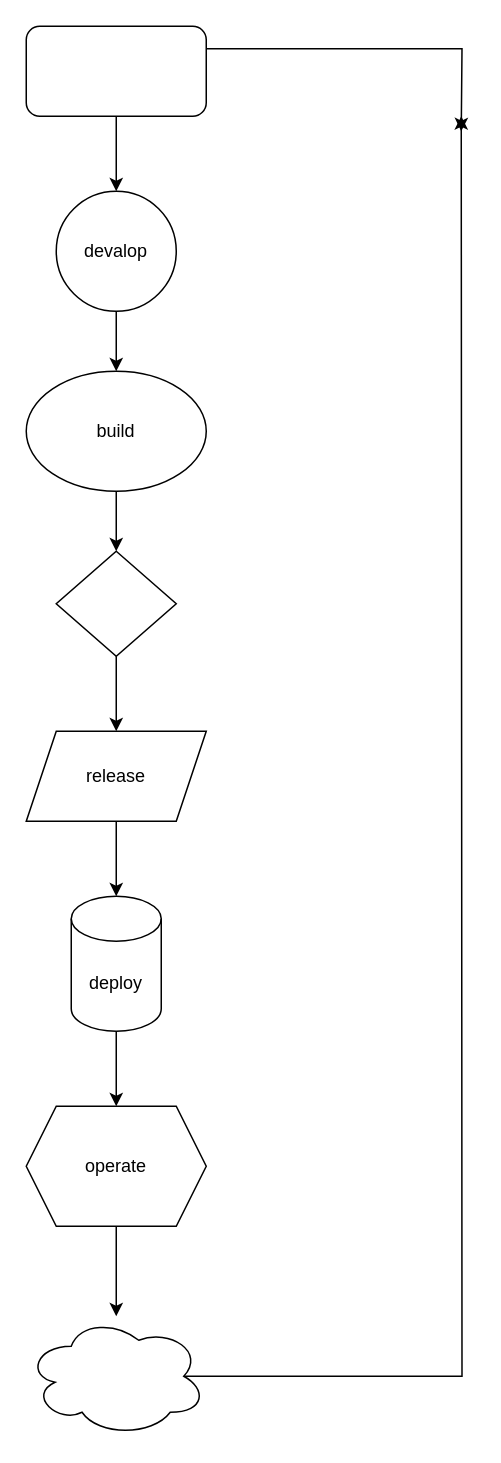
Some shapes in this 501 by 1463 pixel diagram are drawn without their labels. The shapes that lost their labels are listed below. From the top down, each one's centre as x and y in pixels, then its label:
At pixel 115 70: "plan".
At pixel 115 603: "test".
At pixel 115 1375: "monitor".
